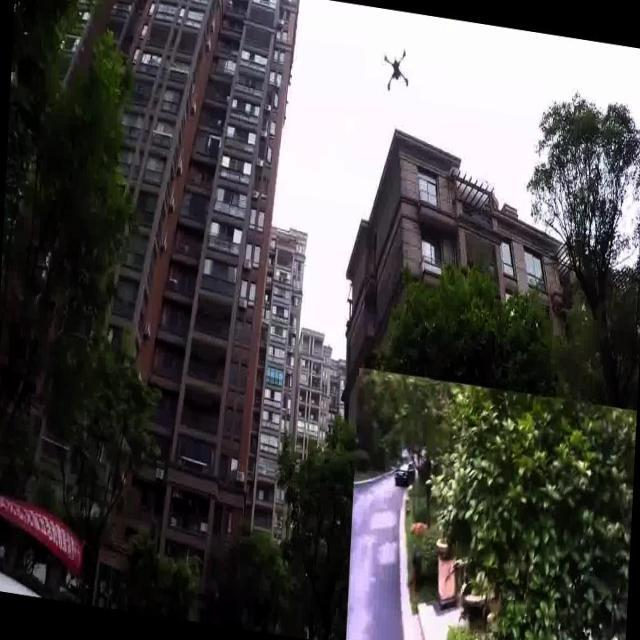drone: (378, 46, 412, 94)
